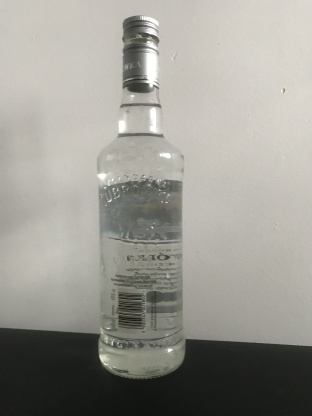nakretka: (121, 14, 160, 93)
